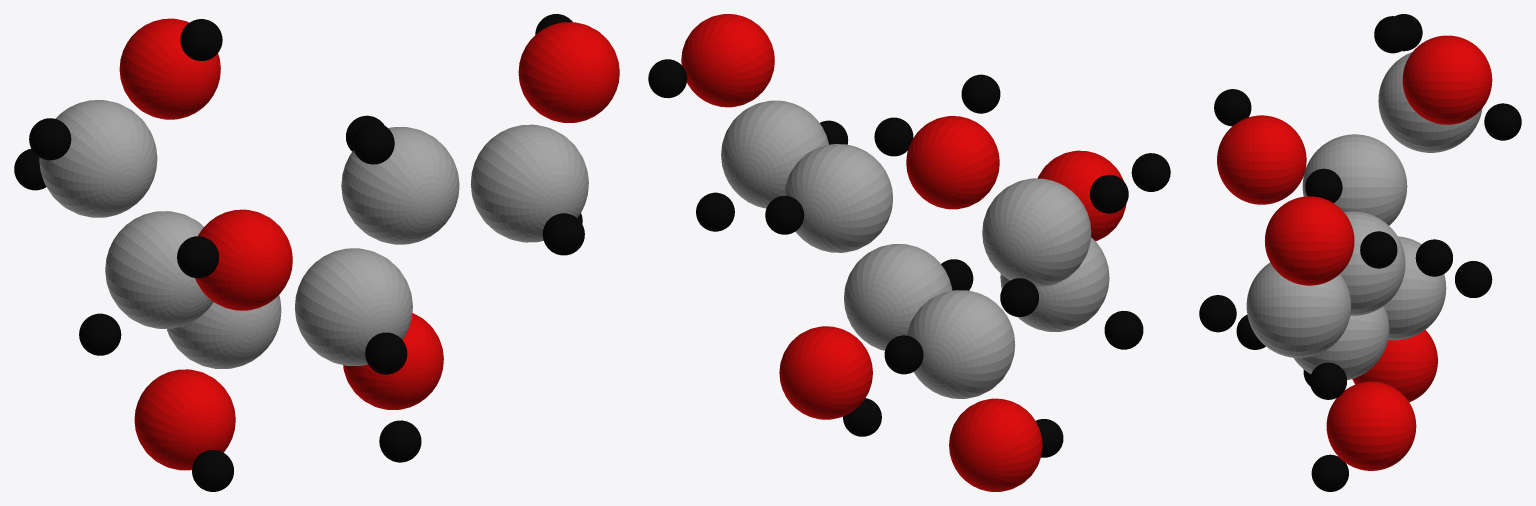
File: Amylase.glb
The picture shows the model from 3 angles, left to right: view 1: azimuth 30°, elevation 25°; view 2: azimuth 150°, elevation 25°; view 3: azimuth 270°, elevation 25°; orthographic projection. The views are drawn at different scales.
Visible parts, largest first — view 1: world; view 2: world; view 3: world.
Part boxes in pixels (x1=…): world: x1=14, y1=14, x2=619, y2=491; world: x1=648, y1=14, x2=1170, y2=491; world: x1=1199, y1=14, x2=1521, y2=491.
Bounding box in the file's own units: 7.23 × 5.93 × 4.31.
